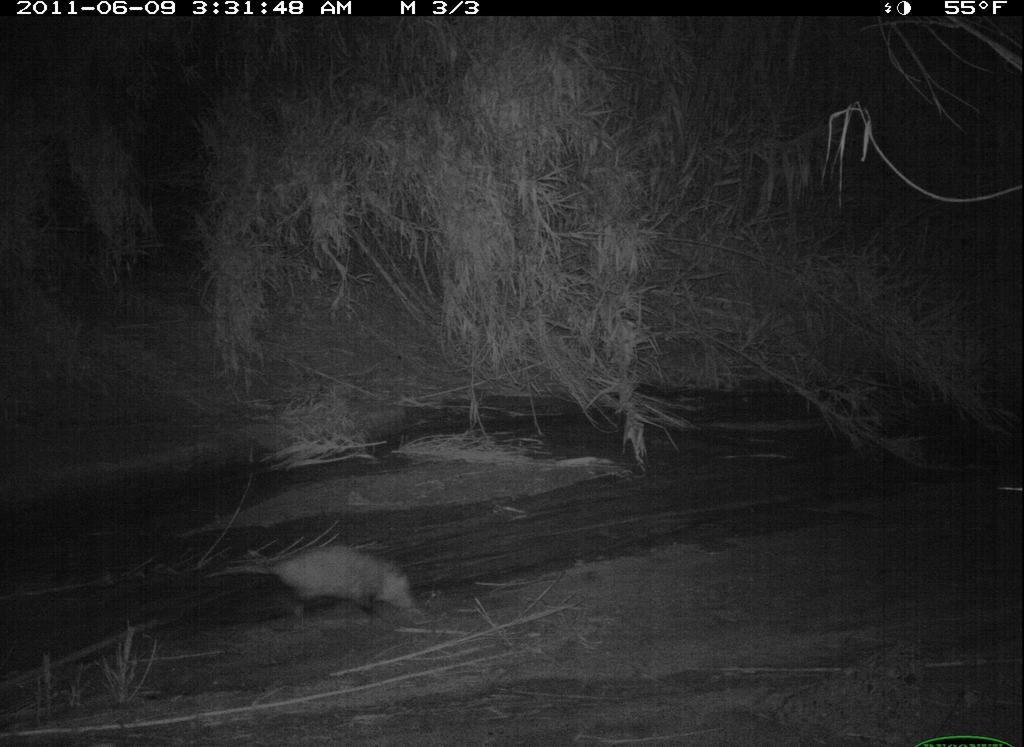opossum: (186, 534, 460, 638)
